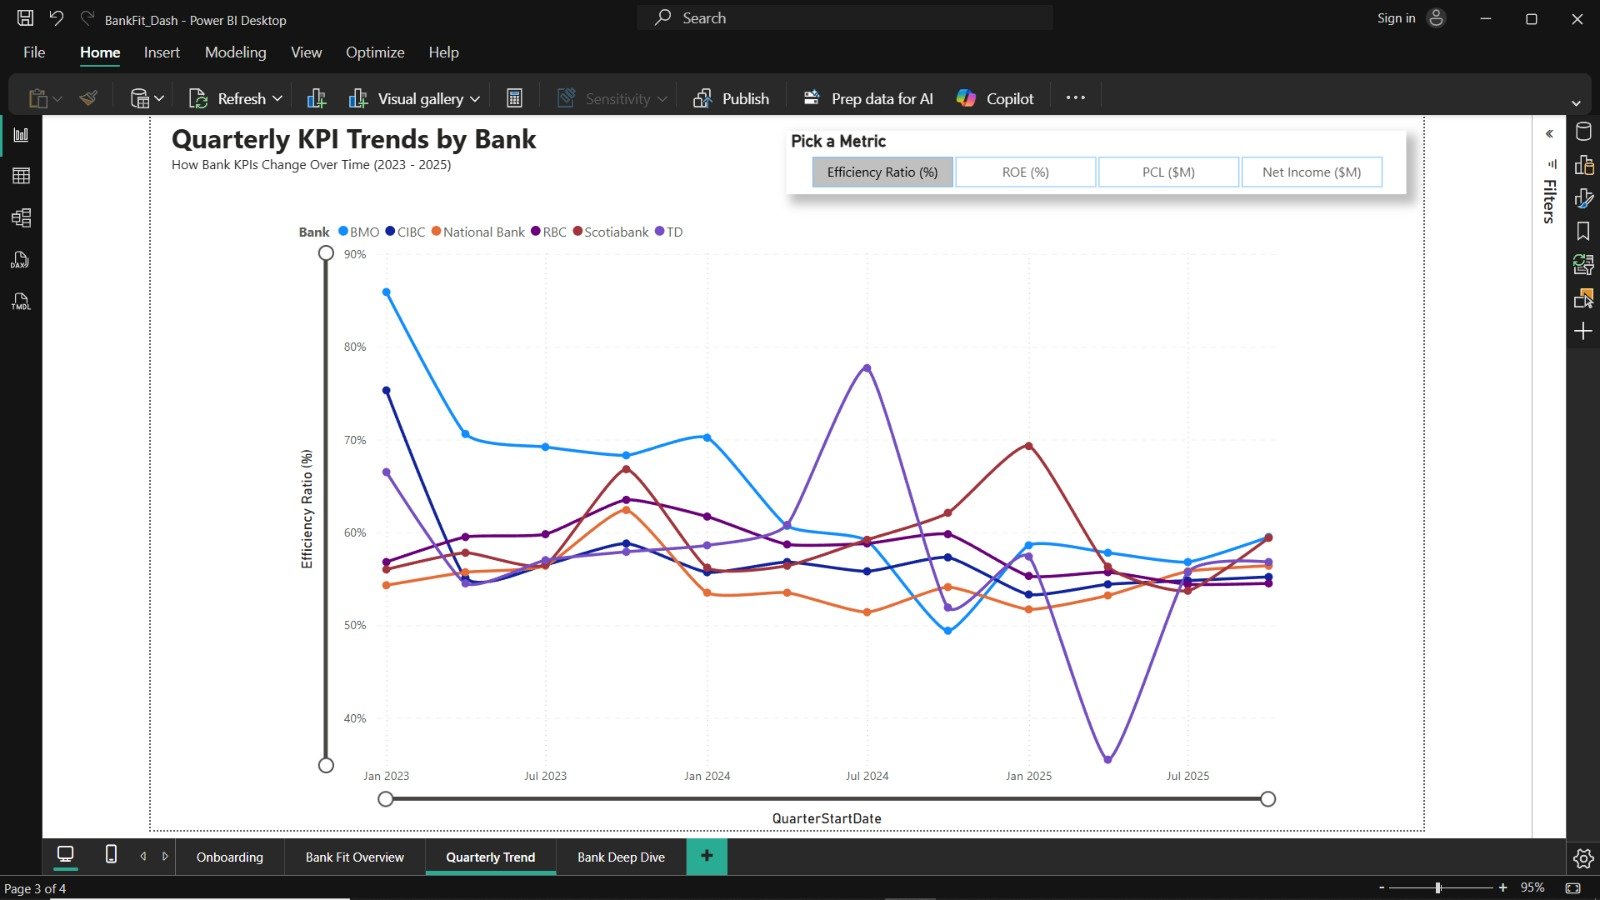

Layout of this report page (visuals, bound fields, positions):
{"tool":"powerbi","page":{"name":"Quarterly Trend","canvas":[1280,720],"ordinal":2},"visuals":[{"type":"lineChart","title":"Net Income Trend by Bank (Quarterly)","fields":{"Y":["Fact_BankQuarterly.Avg Efficiency Ratio (%)"],"Category":["Fact_BankQuarterly.QuarterStartDate"],"Series":["DimBank.Bank"]},"box":[144,96,1008,624],"z":0},{"type":"slicer","title":"Pick a Metric","fields":{"Values":["KPI Selector.KPI Selector"]},"box":[640,16,624,64],"z":1000},{"type":"textbox","box":[16,0,512,80],"z":2000}]}

Visuals, with their boxes on the page's 1280x720 design canvas (x1, y1, x2, y2). These are canvas units, not pixel positions in the 1600x900 screenshot, which may show the page scaled, cropped or inside an application window:
"Net Income Trend by Bank (Quarterly)" lineChart: [x1=144, y1=96, x2=1152, y2=720]
"Pick a Metric" slicer: [x1=640, y1=16, x2=1264, y2=80]
textbox: [x1=16, y1=0, x2=528, y2=80]
